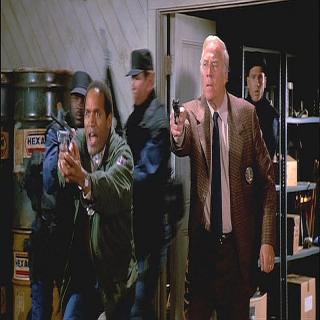gun: (51, 123, 75, 180), (168, 95, 185, 131)
